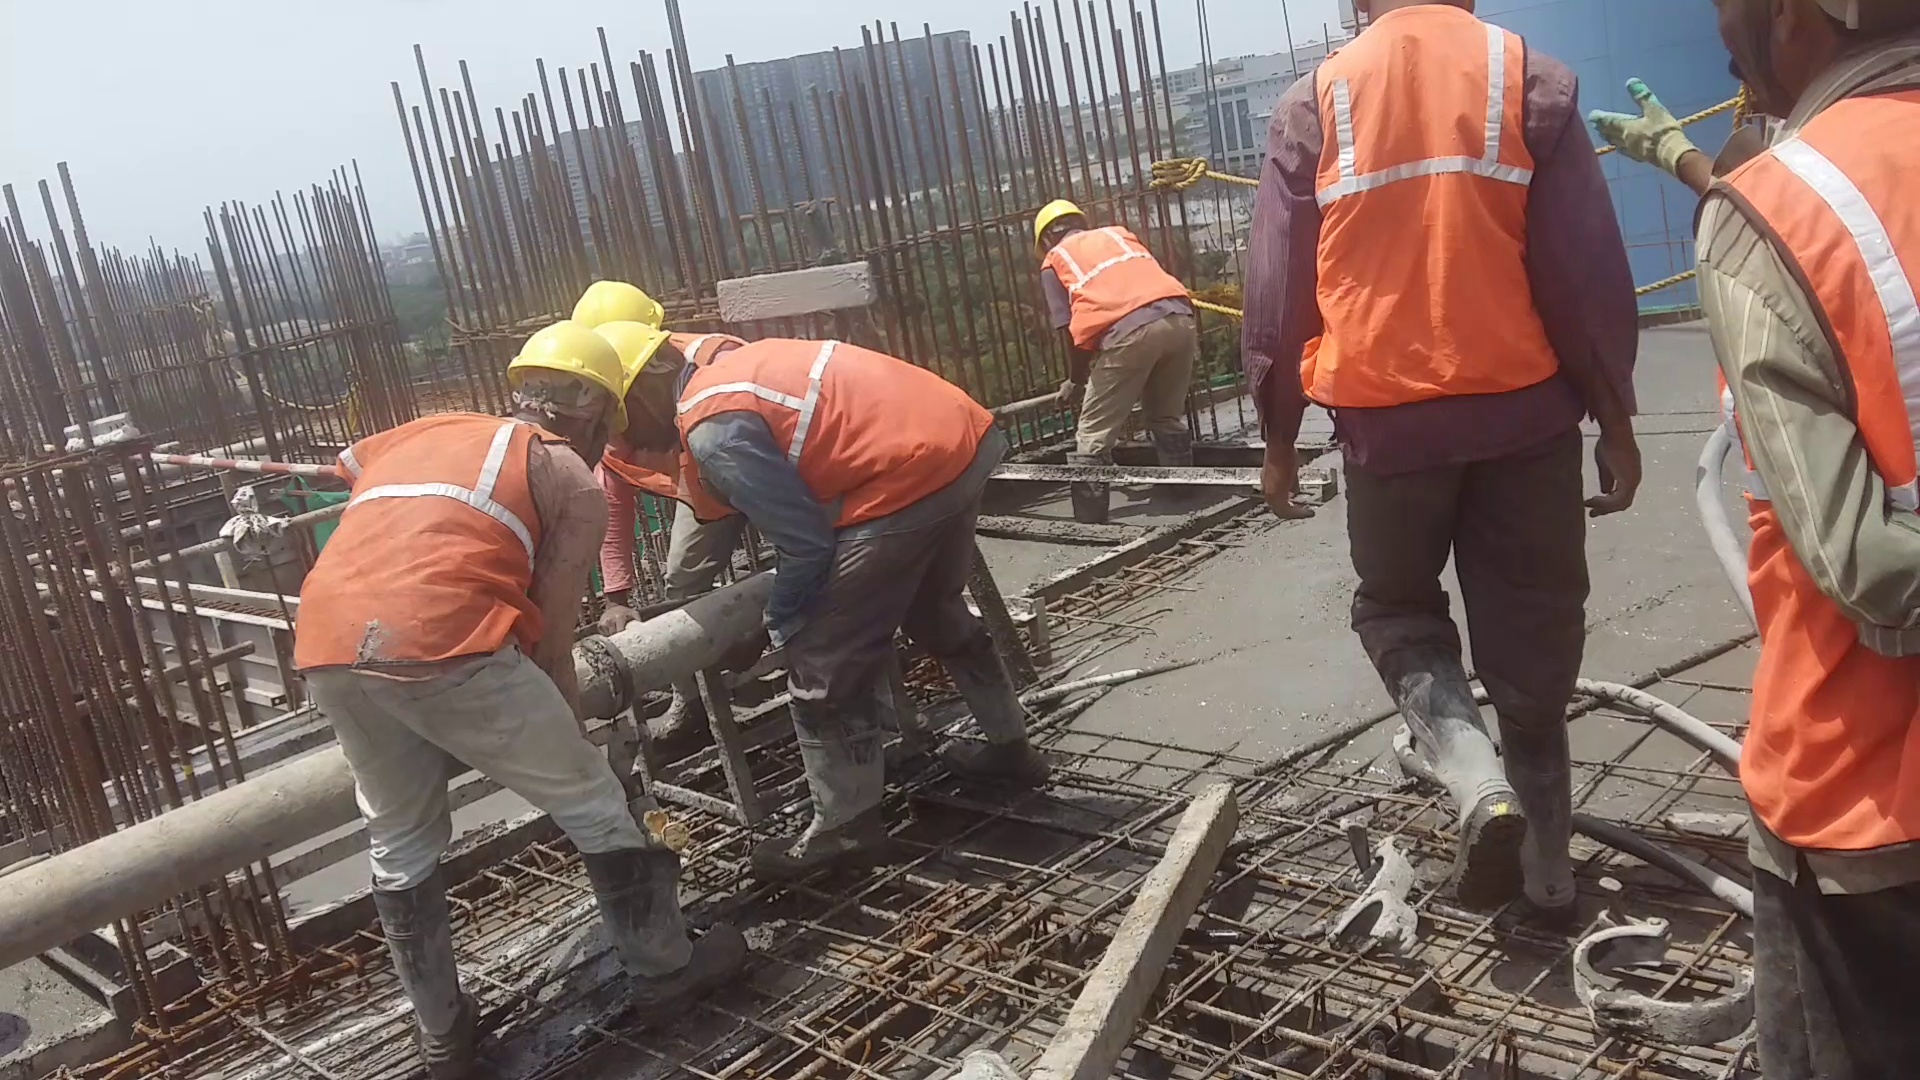SAFE: (302, 316, 615, 675), (615, 313, 1007, 530), (1014, 186, 1195, 344)
